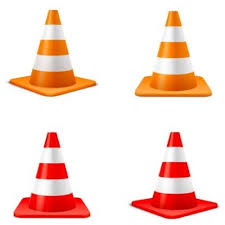cones: (10, 10, 97, 98), (134, 131, 219, 218), (133, 8, 212, 98), (14, 133, 90, 219)
